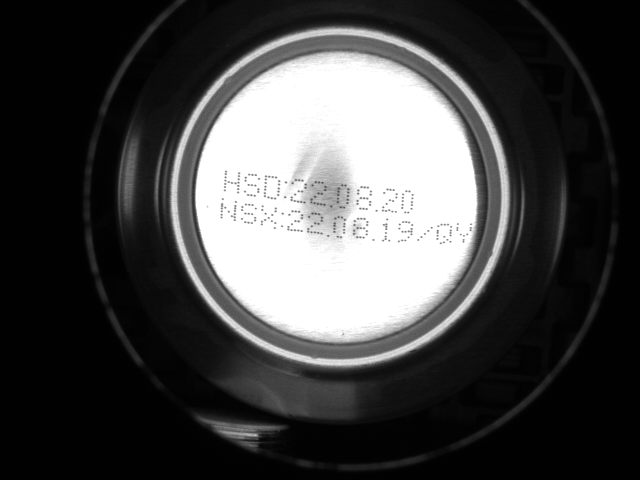/: (411, 219, 430, 243)
0: (320, 212, 345, 238), (396, 186, 415, 214), (329, 179, 348, 206)
1: (373, 216, 390, 243)
2: (306, 176, 330, 207), (371, 184, 395, 214), (281, 175, 304, 204), (279, 206, 302, 231), (301, 210, 319, 235)
8: (346, 214, 370, 239), (350, 182, 369, 209)
9: (392, 217, 411, 244)
D: (256, 172, 278, 198)
H: (216, 171, 237, 195)
N: (211, 198, 236, 224)
Q: (431, 218, 452, 242)
S: (236, 200, 256, 225), (237, 171, 256, 195)
X: (256, 202, 275, 227)
Y: (452, 218, 473, 243)
